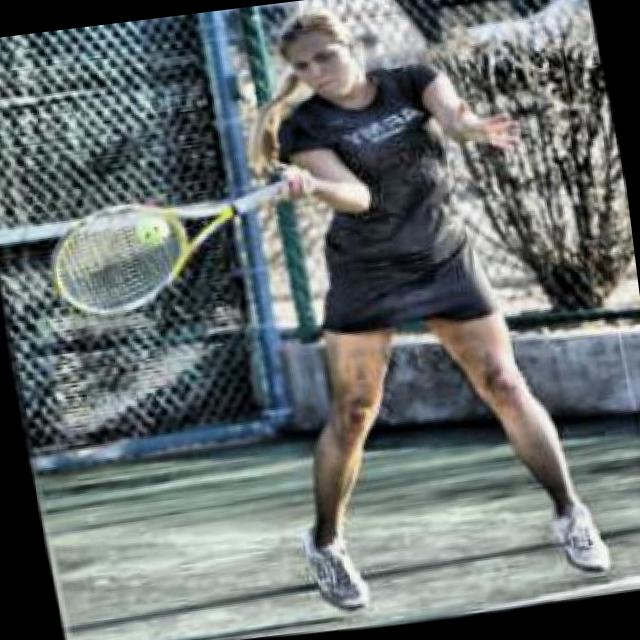Tennis Ball: (136, 218, 170, 249)
